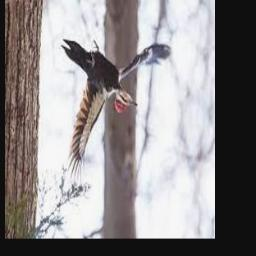Woodpecker: (62, 40, 171, 182)
